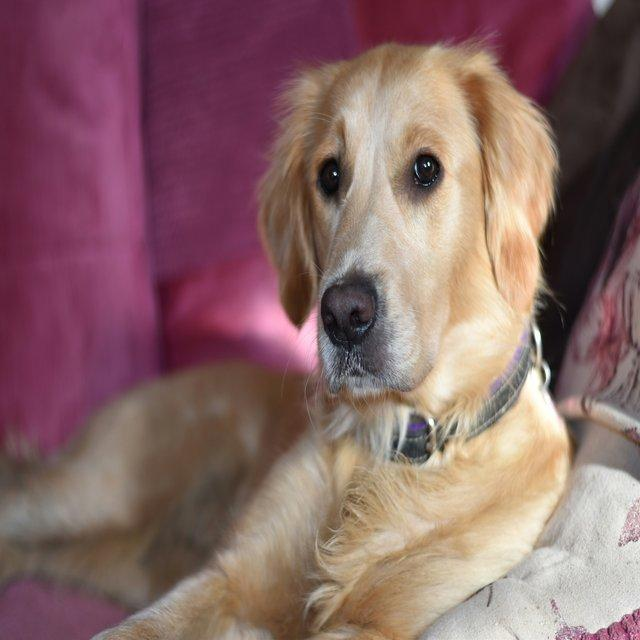retriever: (1, 32, 574, 638)
